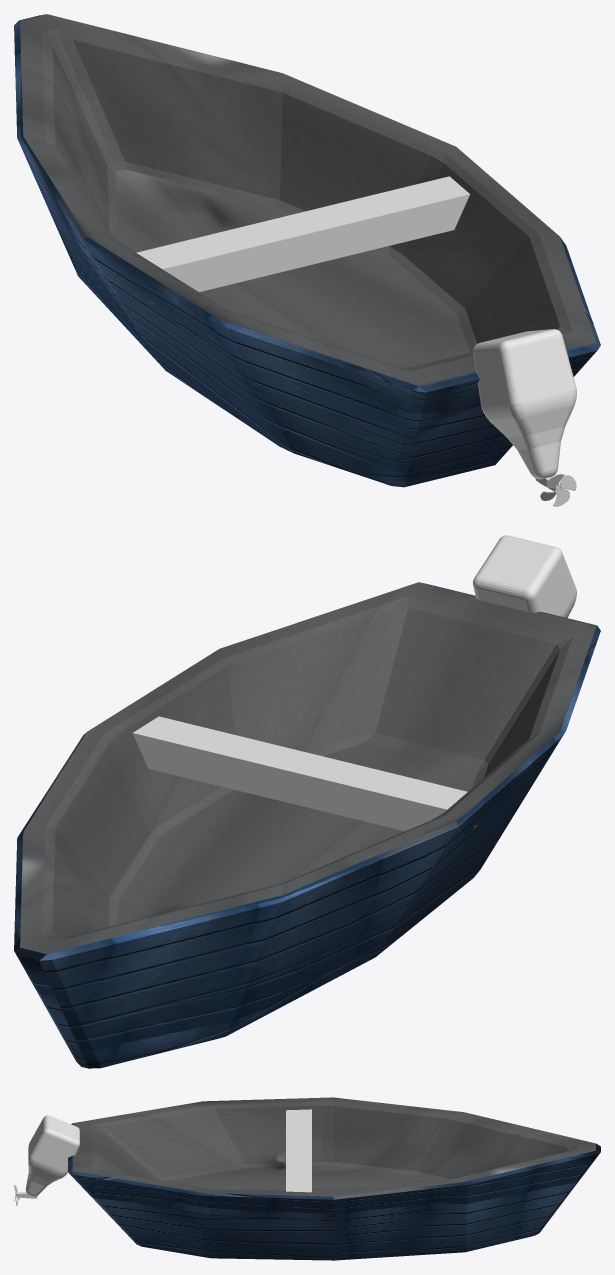
The model's file is Boat.fbx.
3 views of the same model, one above another, from view 1: azimuth 30°, elevation 25°; view 2: azimuth 150°, elevation 25°; view 3: azimuth 270°, elevation 25° (orthographic). The views are drawn at different scales.
Parts seen in each view (by area): view 1: Plane, Cube, Cube.001, Plane.004; view 2: Plane, Cube, Cube.001; view 3: Plane, Cube.001, Cube.
Part boxes in pixels (x1,y1,x2,y2): Plane: (14, 14, 600, 487); Cube: (136, 176, 469, 303); Cube.001: (473, 329, 576, 479); Plane.004: (540, 473, 576, 506); Plane: (14, 582, 600, 1068); Cube: (132, 716, 476, 831); Cube.001: (473, 535, 576, 617); Plane: (68, 1097, 600, 1260); Cube.001: (25, 1115, 79, 1196); Cube: (286, 1109, 311, 1192).
Size of the model in its own units: 296 by 153 by 726.
1 material, 1 textured.
